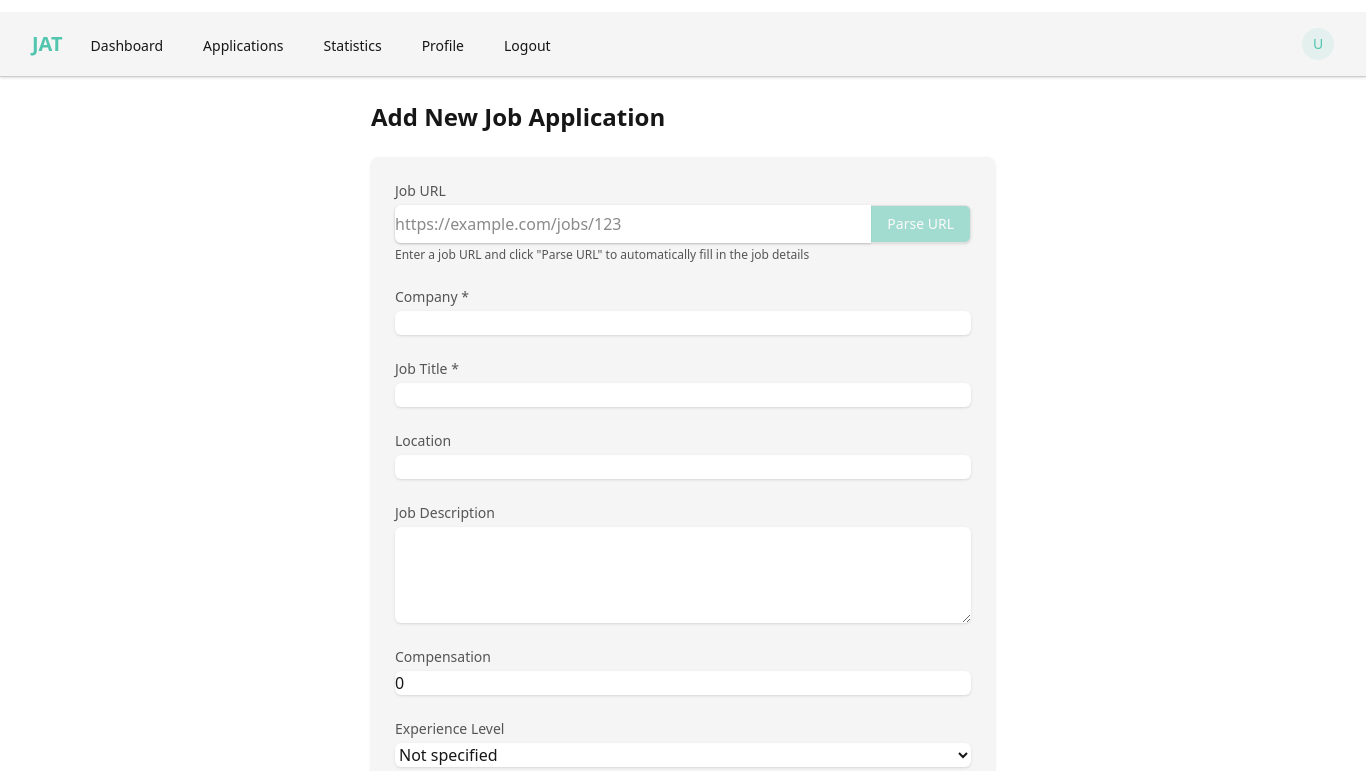
Test case: AddApplicationForm › successfully parses URL and populates form fields
Enter URL and click parse
Step 1. Type "https://job-boards.greenhouse.io/pulley/jobs/4750336008" into the field labelled "Job URL" → [633, 224], box [395,205,871,243]
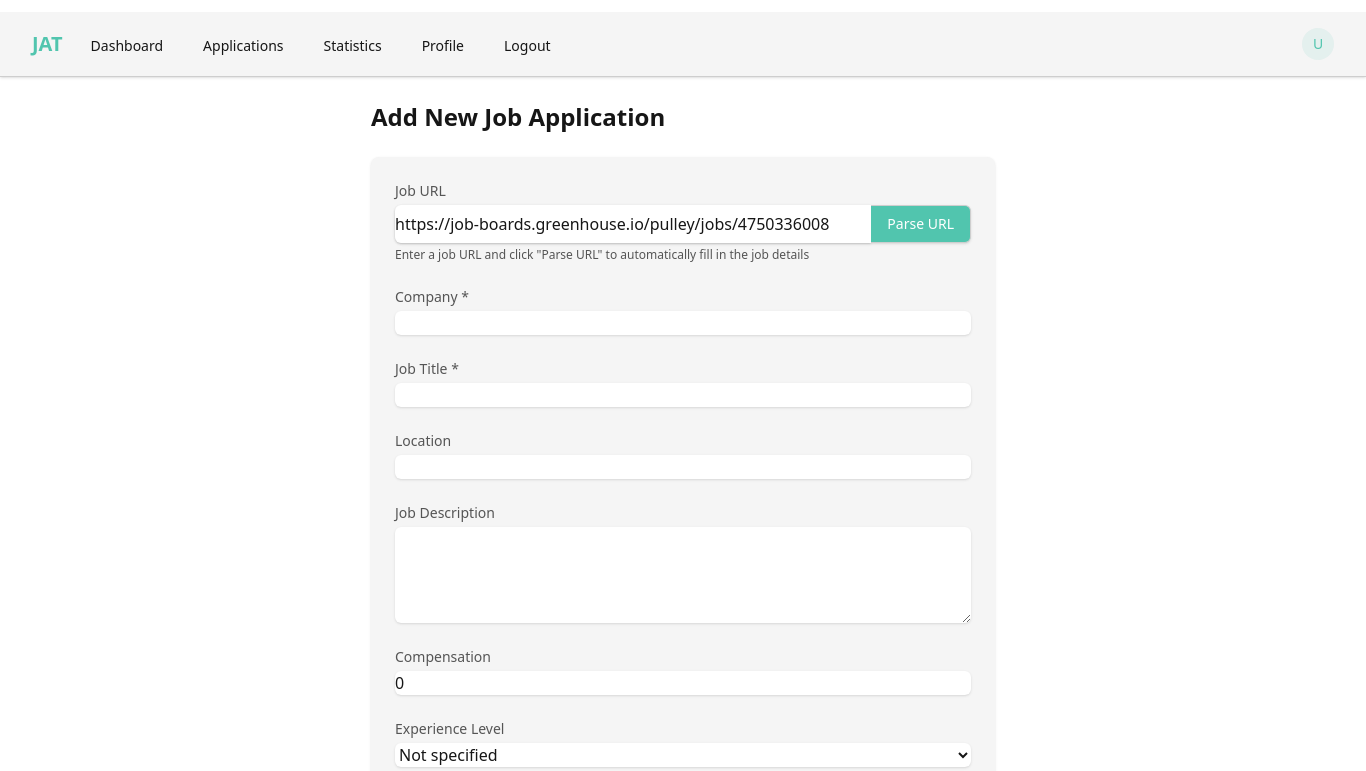
Step 2. Click the button "Parse URL" → [921, 224], box [871,205,971,243]
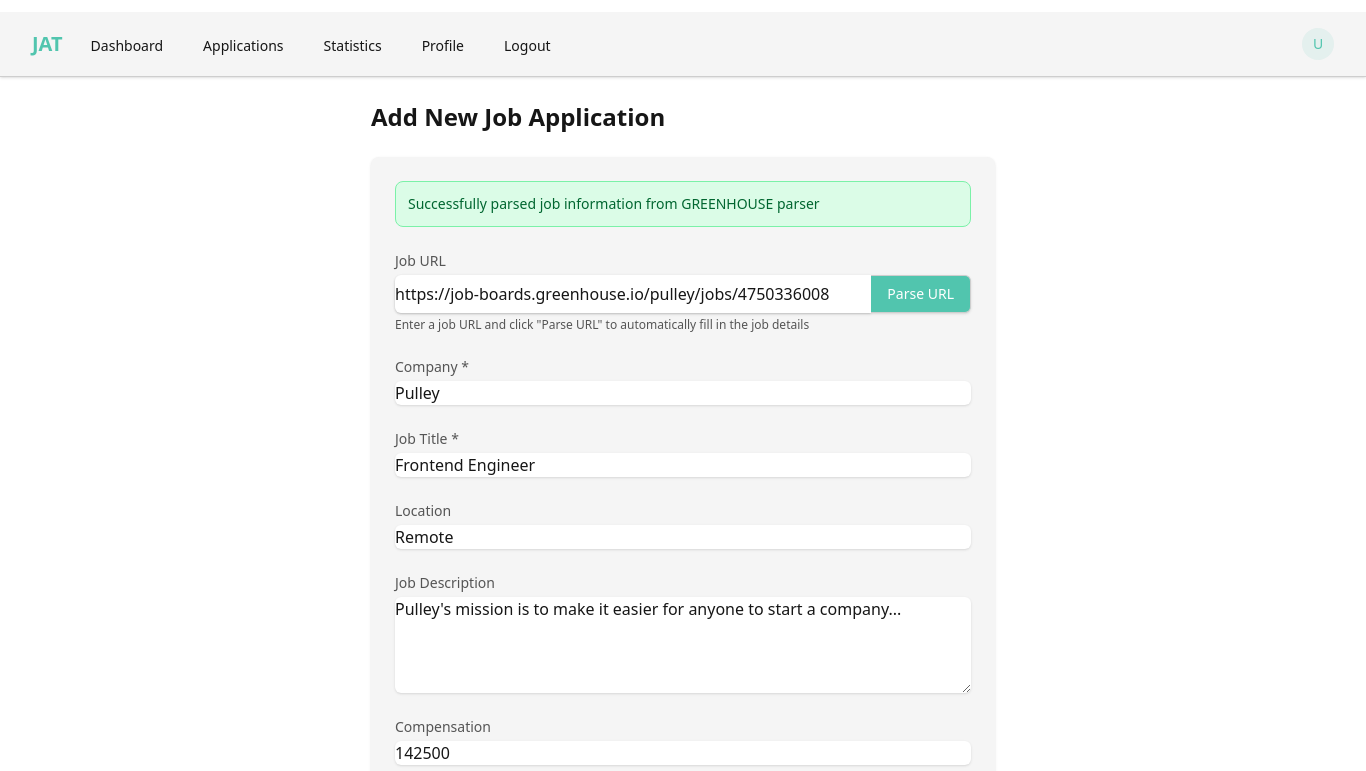
Check: the field showing "Frontend Engineer" is shown, box [395,453,971,477]
Check: the field showing "Pulley" is shown, box [395,381,971,405]
Check: the field showing "Remote" is shown, box [395,525,971,549]
